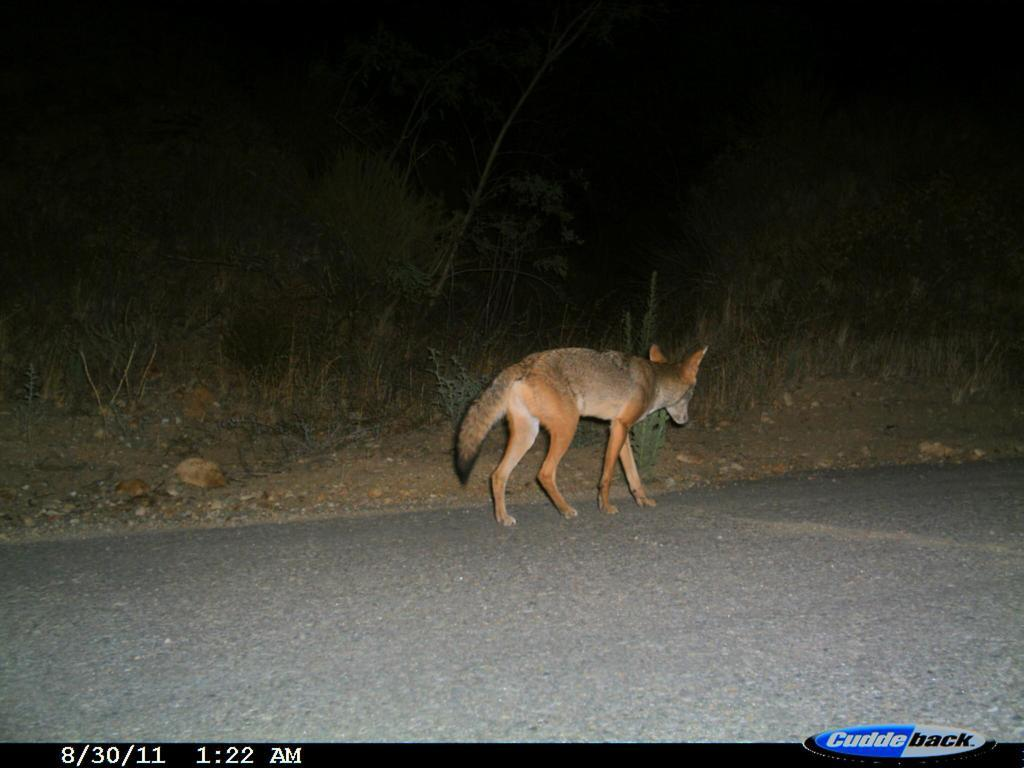coyote: (447, 333, 716, 530)
